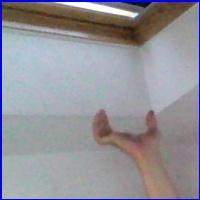space: (86, 100, 167, 161)
